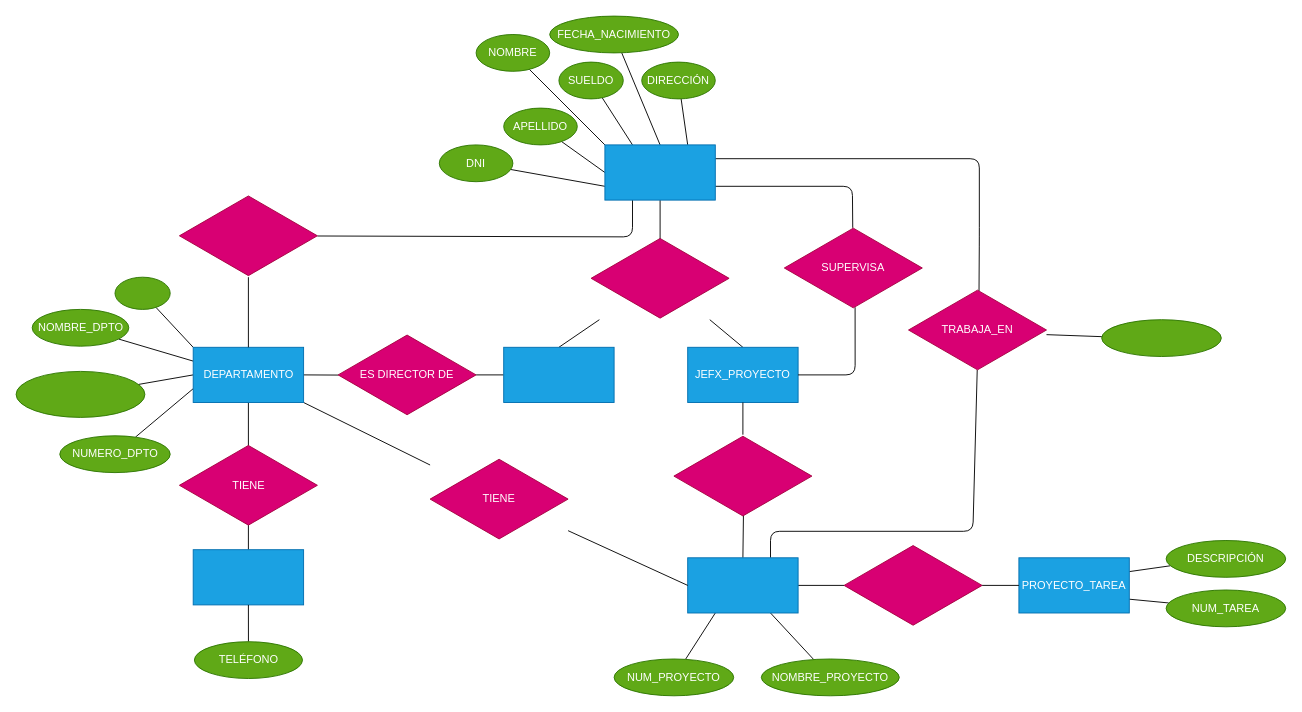
The diagram is 1302 pixels wide and 712 high, and some of its shapes have lost their labels. The centre of each missing label's shape, as x and y in pixels:
"DIRECTORX" goes at (558,374).
"DIRIGE" goes at (742,476).
"EMPLEADX" goes at (659,172).
"ES" goes at (659,278).
"FECHA_INGRESO _DIRECTOR" goes at (80,393).
"HACE" goes at (912,585).
"HORAS" goes at (1161,337).
"ID" goes at (142,292).
"PERTENECE A" goes at (247,235).
"PROYECTO" goes at (742,585).
"TEL_DEPTO" goes at (248,577).
